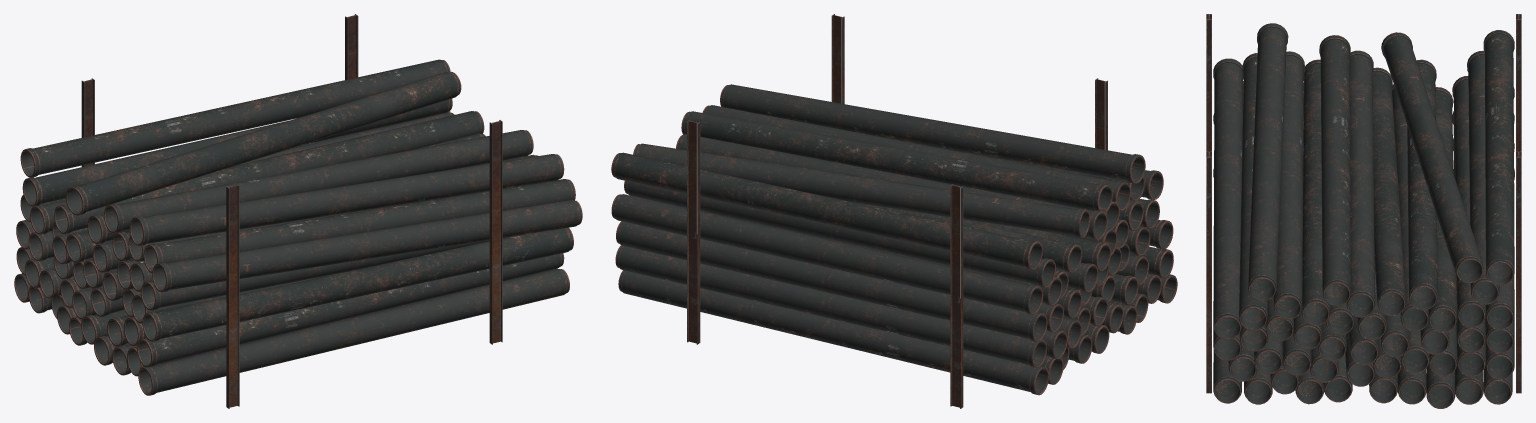
Rendered from pipe_box_metal_-_7mb.glb.
3 renders of one model, left to right at view 1: azimuth 30°, elevation 25°; view 2: azimuth 150°, elevation 25°; view 3: azimuth 270°, elevation 25°, orthographic. The views are drawn at different scales.
Parts seen in each view (by area): view 1: Cloner_1, Cloner; view 2: Cloner_1, Cloner; view 3: Cloner_1, Cloner.
Boxes of the visible parts, <box> form: Cloner_1: <box>14,59,582,395</box>; Cloner: <box>81,14,502,408</box>; Cloner_1: <box>611,84,1177,395</box>; Cloner: <box>687,14,1107,408</box>; Cloner_1: <box>1213,23,1514,408</box>; Cloner: <box>1206,14,1521,393</box>.
Size of the model in its own units: 3.76 by 1.8 by 2.18.
Materials: 1 (1 with a texture image).
